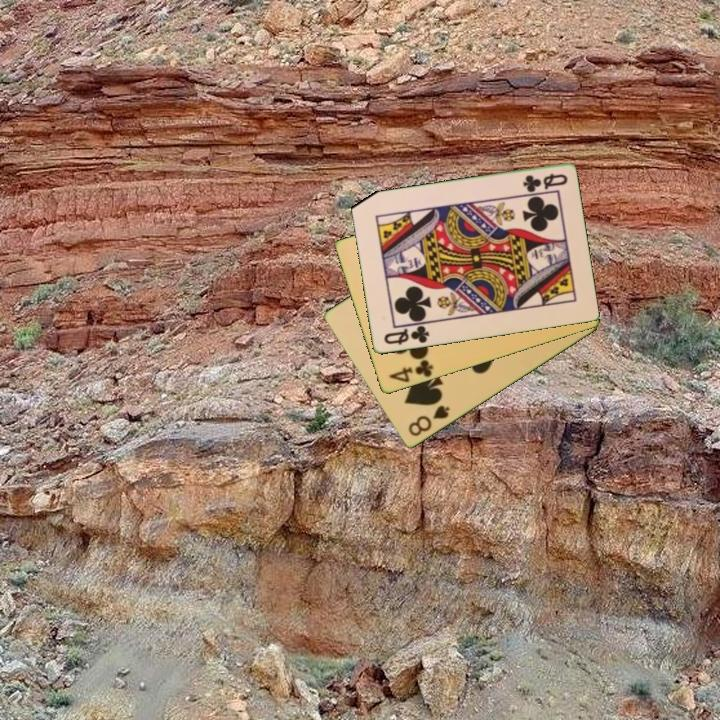4c: (385, 356, 436, 386)
8s: (404, 402, 453, 440)
Qc: (380, 322, 432, 348), (519, 170, 570, 195)
